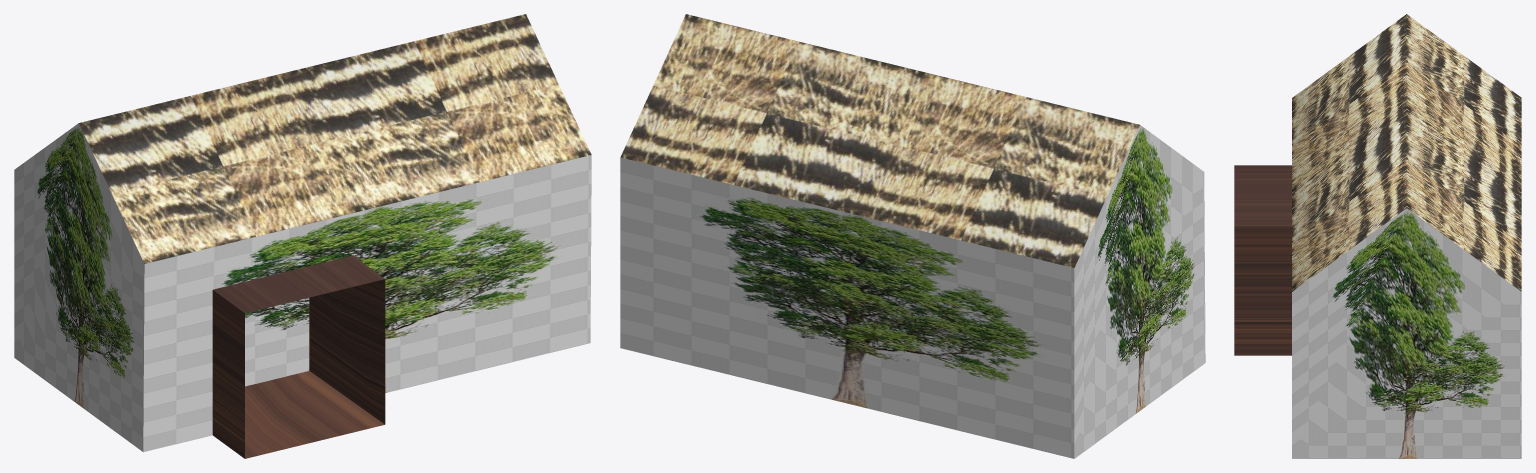
File: village.fbx
3 renders of one model, left to right at view 1: azimuth 30°, elevation 25°; view 2: azimuth 150°, elevation 25°; view 3: azimuth 270°, elevation 25°, orthographic. The views are drawn at different scales.
Visible parts, largest first — view 1: Village; view 2: Village; view 3: Village.
Part boxes in pixels (bbox=[...]): Village: bbox=[14, 14, 591, 458]; Village: bbox=[620, 14, 1205, 458]; Village: bbox=[1234, 14, 1521, 458].
Size of the model in its own units: 80.22 by 48.19 by 50.
